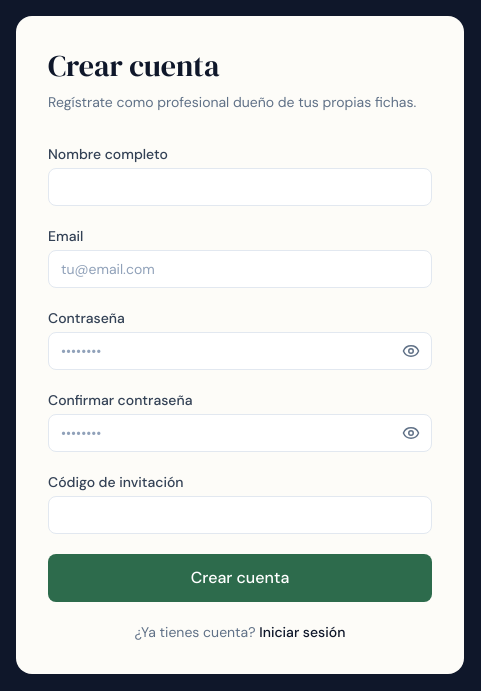
SignupPage › registro exitoso envía los datos y muestra la pantalla de revisar email
Type "Ana Pérez" into the field labelled "Nombre completo" at (240, 187), box [48,168,432,206]
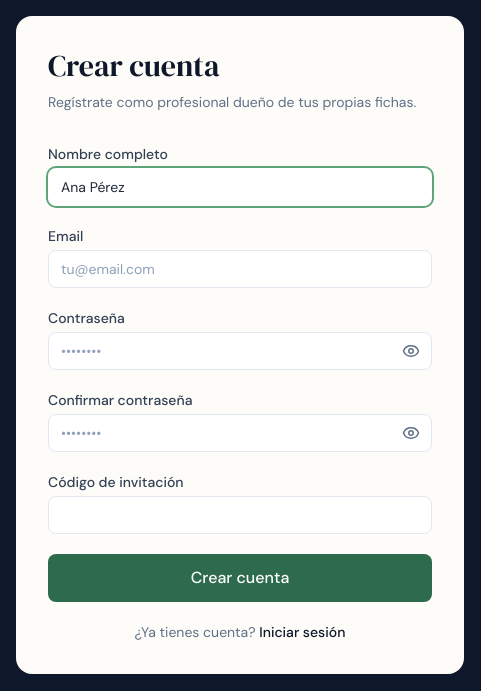
Type "ana@umbral.cl" into the field labelled "Email" at (240, 269), box [48,250,432,288]
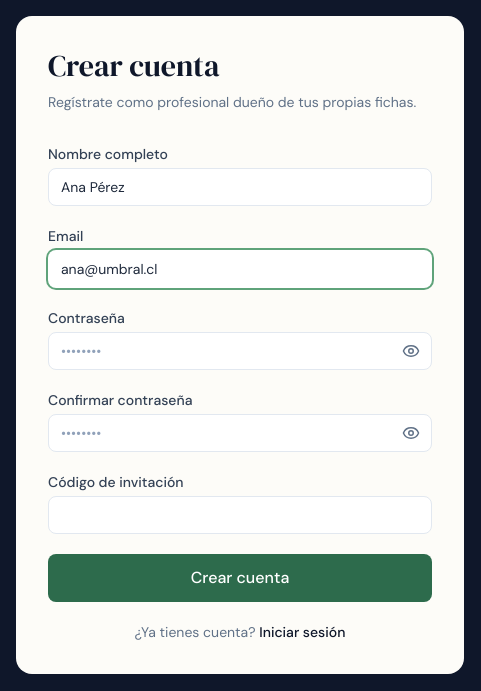
Type "Password123!" into the password field labelled "Contraseña" at (240, 351), box [48,332,432,370]
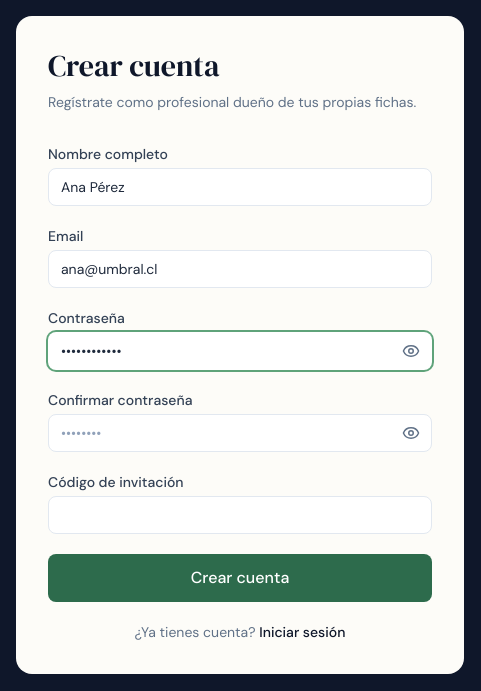
Type "Password123!" into the password field labelled "Confirmar contraseña" at (240, 433), box [48,414,432,452]
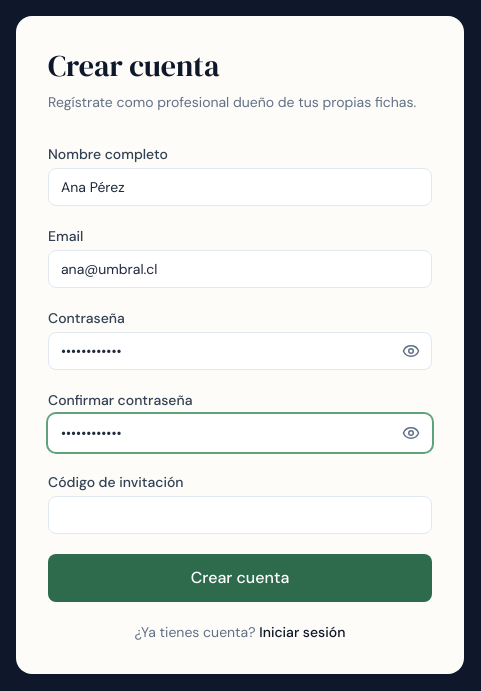
Type "INV-123" into the field labelled "Código de invitación" at (240, 515), box [48,496,432,534]
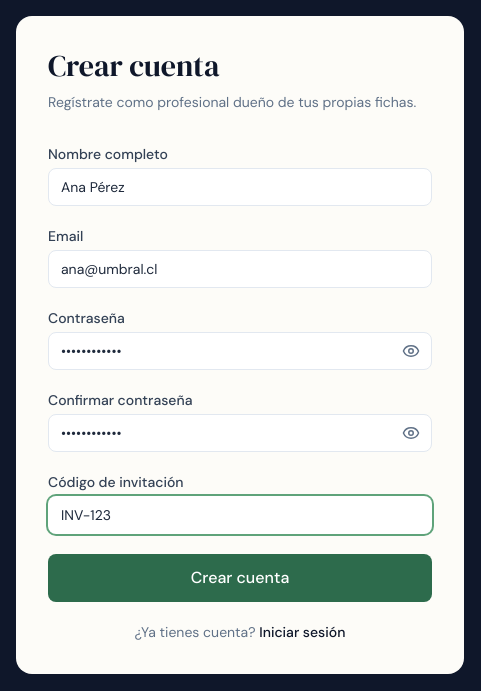
Click the button "Crear cuenta" at (240, 578), box [48,554,432,602]
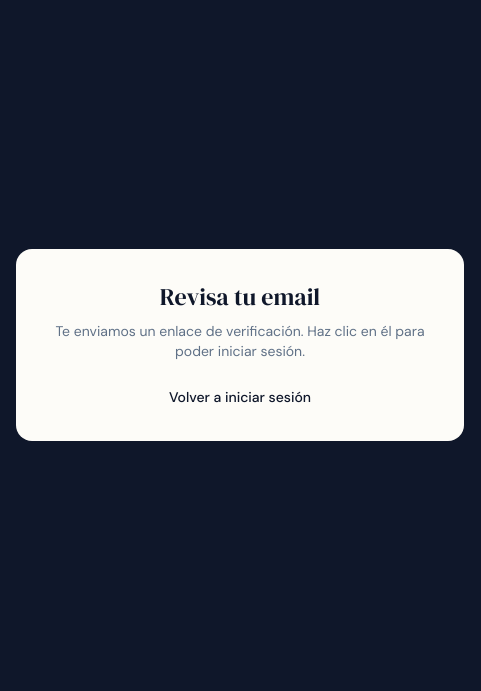
Expected: the heading "Revisa tu email" is shown, [160,280,320,313]
